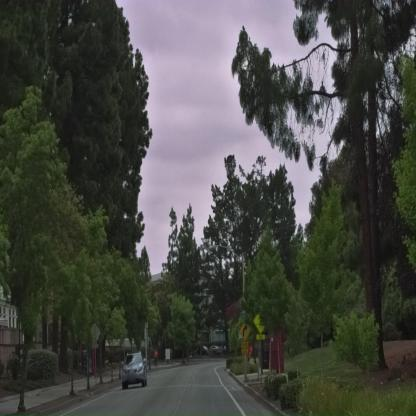car: (121, 353, 147, 389)
